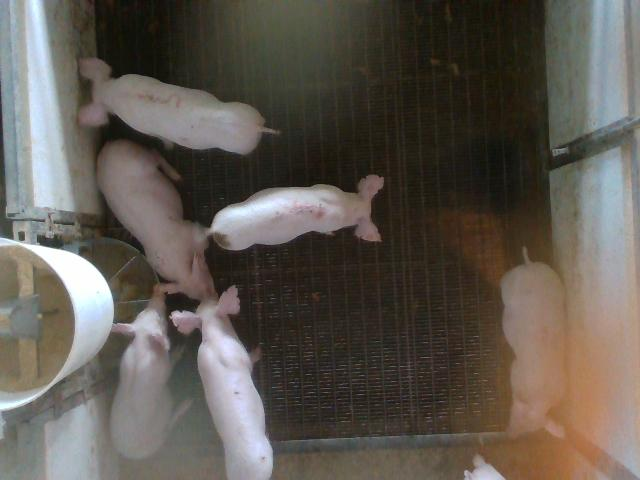pig-3: (78, 58, 279, 153)
pig-5: (209, 175, 384, 249)
